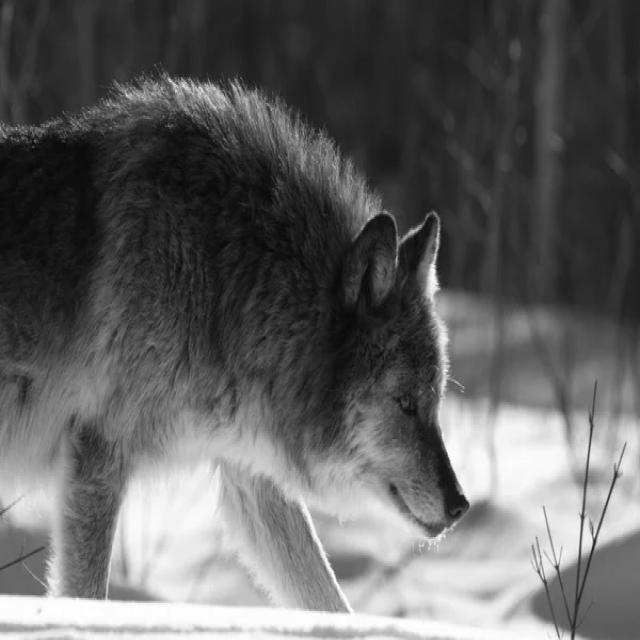Animal: (18, 94, 467, 640)
